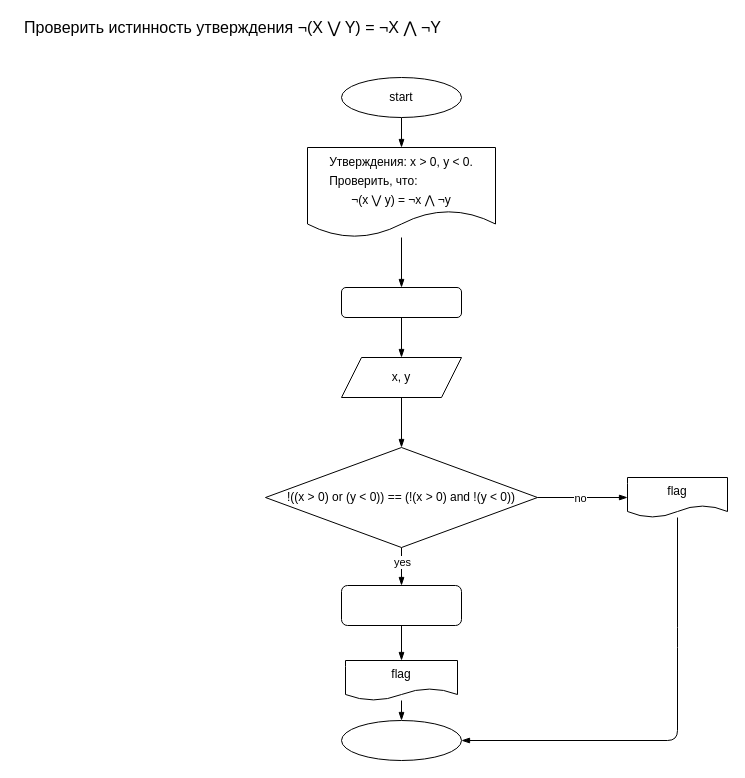
This 745x778 diagram has some shape labels left out. The centre of each missing label's shape, as x and y in pixels:
"end" belongs at [401,740].
"flag = false" belongs at [401,302].
"flag = true" belongs at [401,605].
